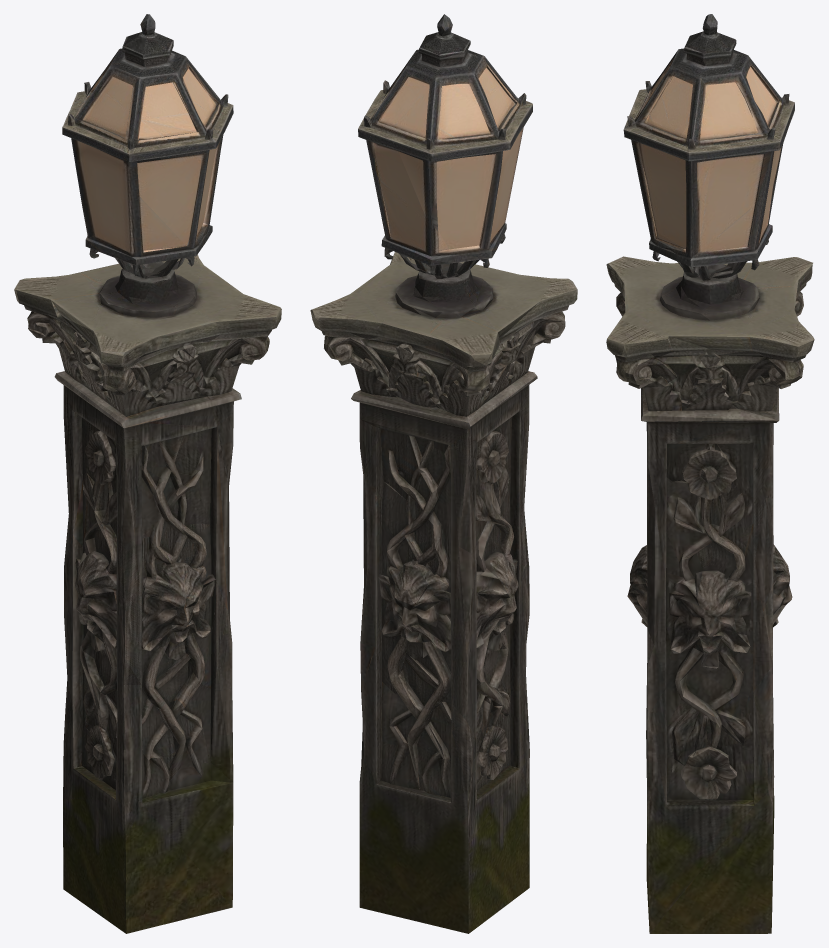
The model's file is sp_m_lanternpost.glb.
3 views of the same model, side by side, from view 1: azimuth 30°, elevation 25°; view 2: azimuth 150°, elevation 25°; view 3: azimuth 270°, elevation 25° (orthographic).
Parts seen in each view (by area): view 1: Mesh_0; view 2: Mesh_0; view 3: Mesh_0.
Part boxes in pixels (x1,y1,x2,y2): Mesh_0: (14, 14, 281, 933); Mesh_0: (310, 14, 577, 933); Mesh_0: (606, 14, 814, 933).
Size of the model in its own units: 0.4073 by 1.9 by 0.4014.
1 material, 1 textured.
